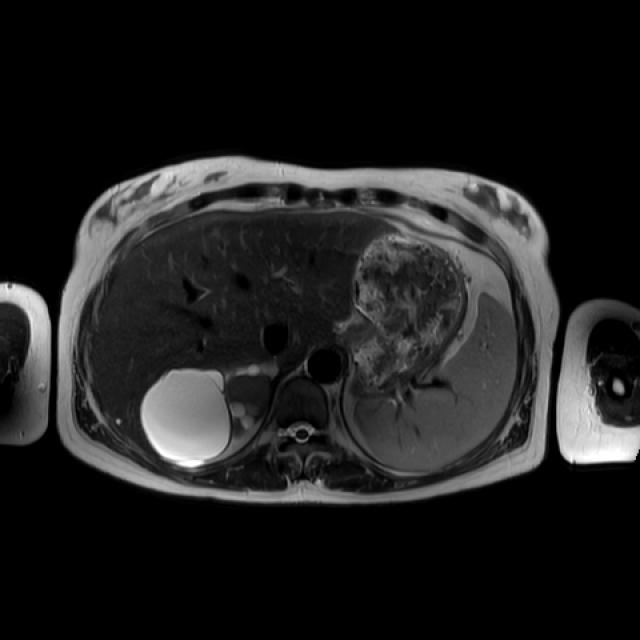sag: (142, 359, 278, 467)
